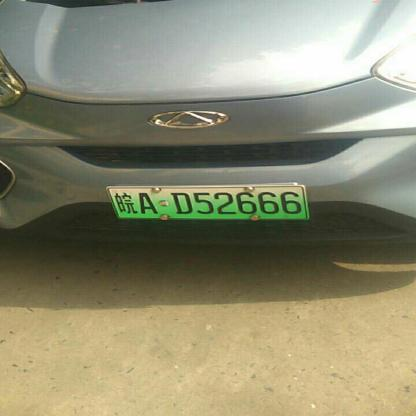lp: (108, 186, 306, 218)
